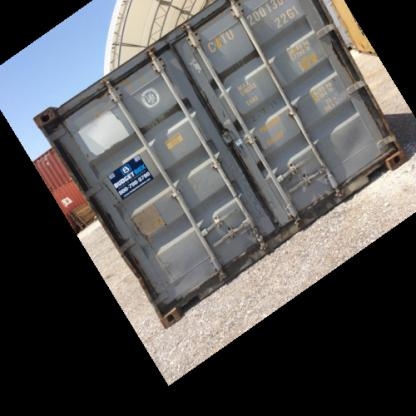Damage: (102, 176, 156, 250), (227, 162, 270, 223), (36, 107, 76, 149), (127, 256, 154, 298), (249, 89, 276, 131), (140, 105, 172, 137), (93, 86, 107, 100)
